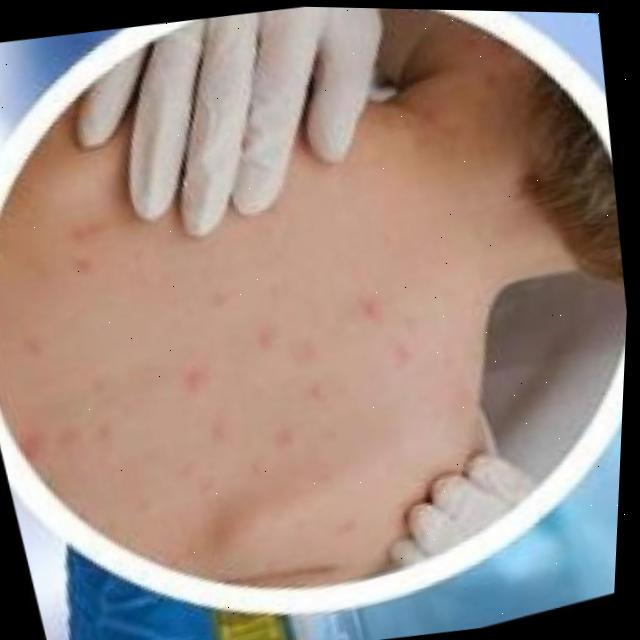Eczema: (0, 211, 399, 504)
